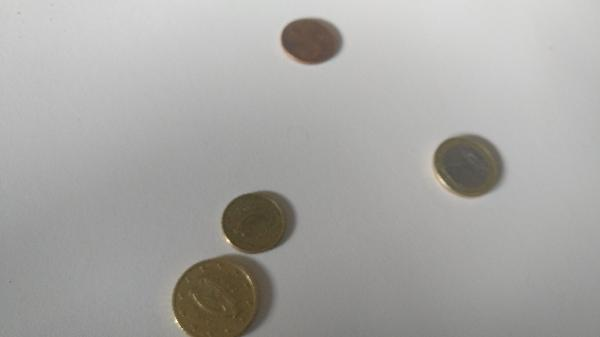Fifty Cent: (171, 255, 261, 337)
Five Cent: (279, 17, 347, 63)
One Euro: (431, 135, 499, 198)
Ten Cent: (221, 190, 293, 255)
